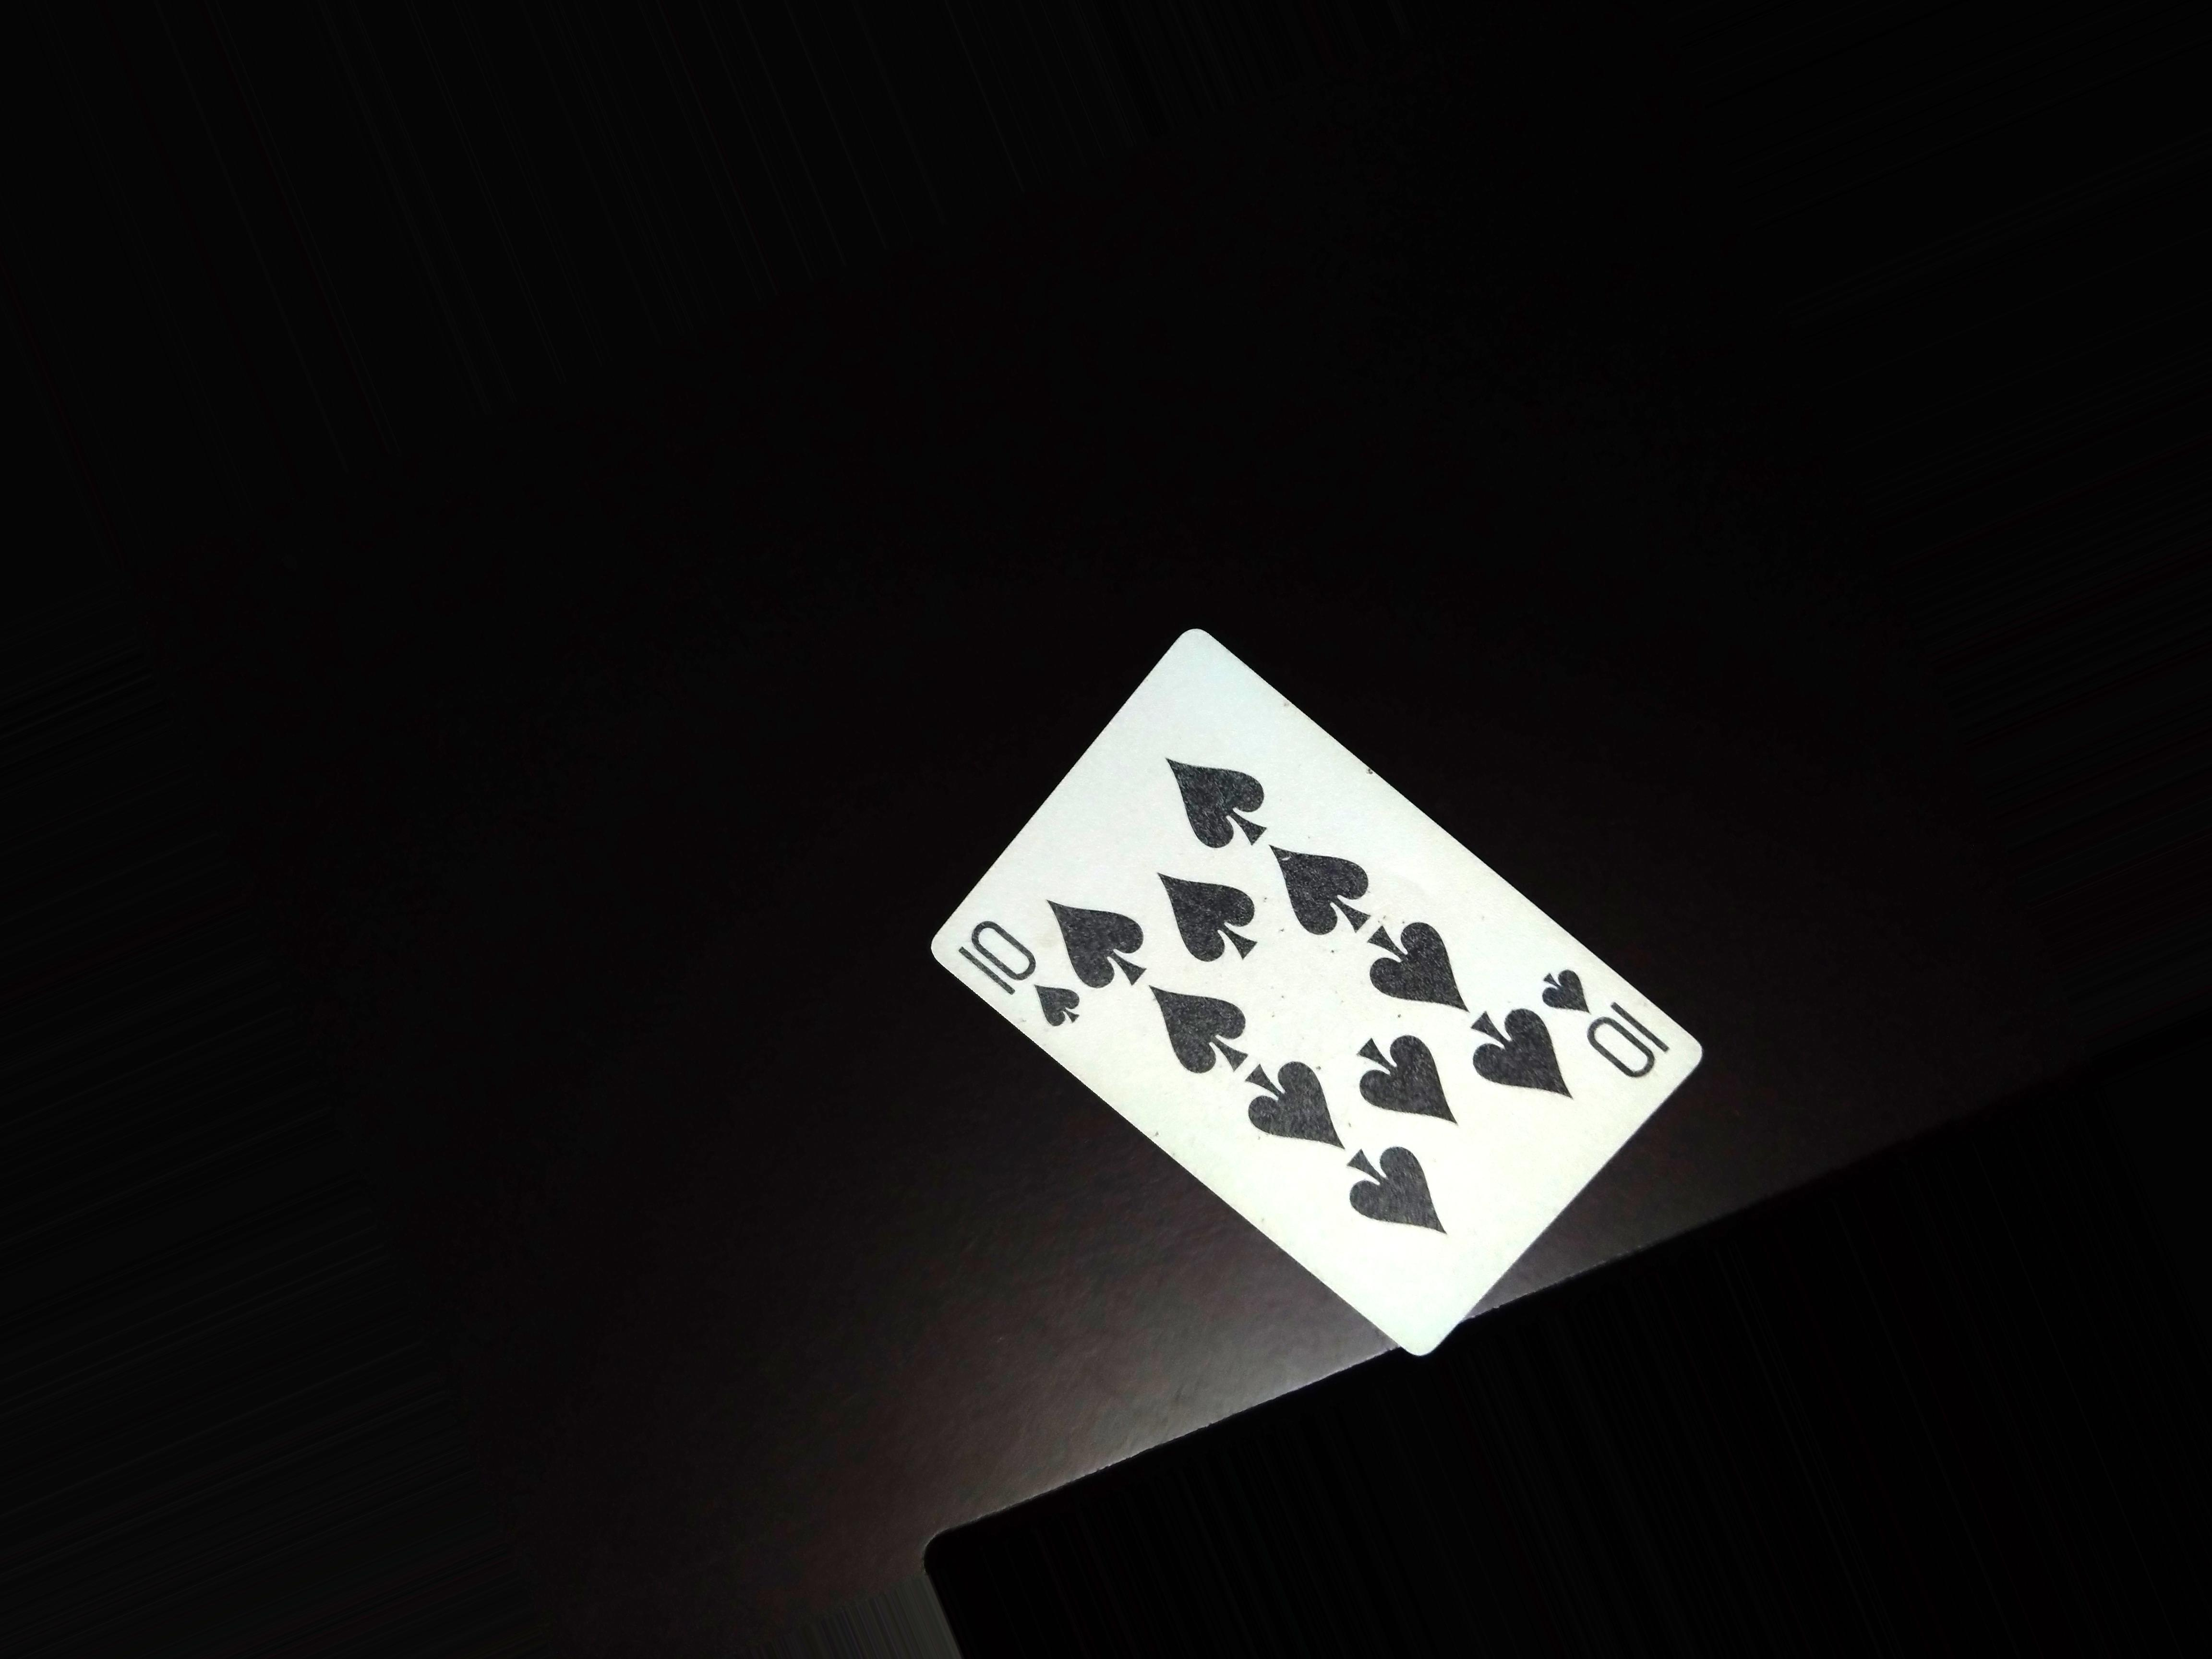10S: (953, 915, 1094, 1049)
